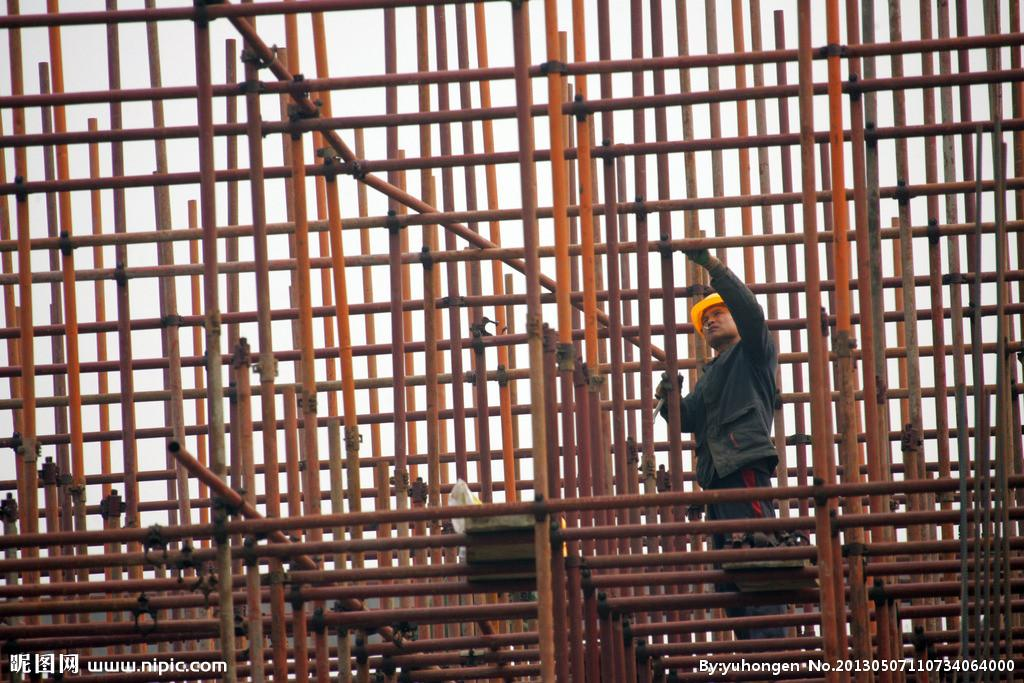helmet: (691, 292, 729, 325)
